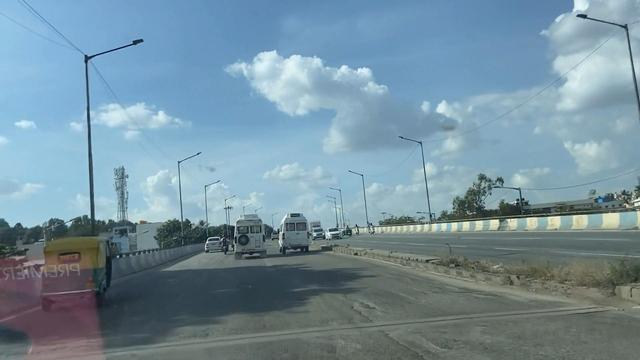HMV: (233, 210, 268, 256), (283, 209, 309, 252)
LMV: (44, 229, 120, 311)
RoadDamages: (332, 272, 447, 360), (398, 279, 485, 331)
